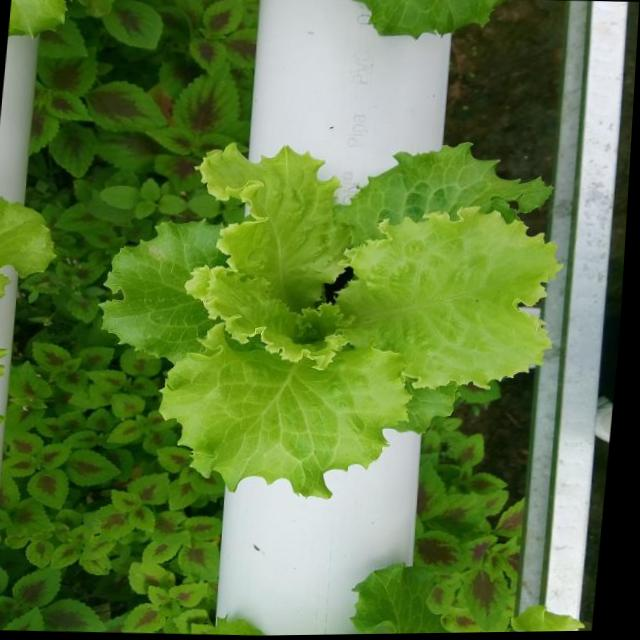Baby: (99, 143, 560, 498)
